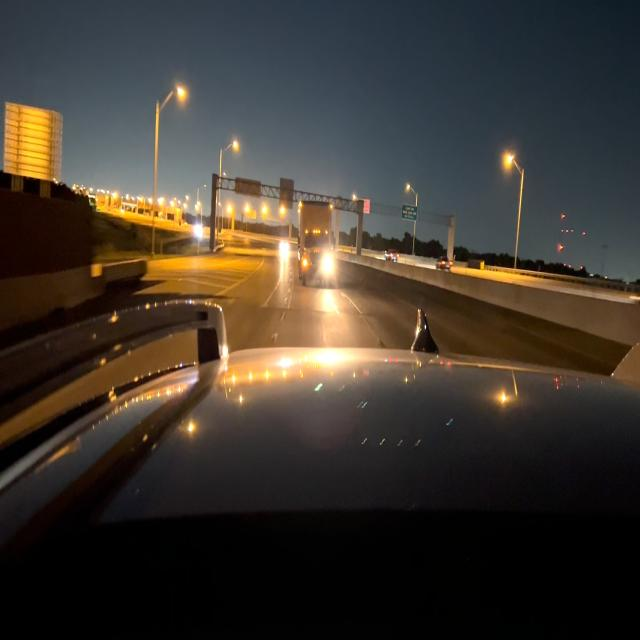back-of-sign: (5, 100, 63, 181)
